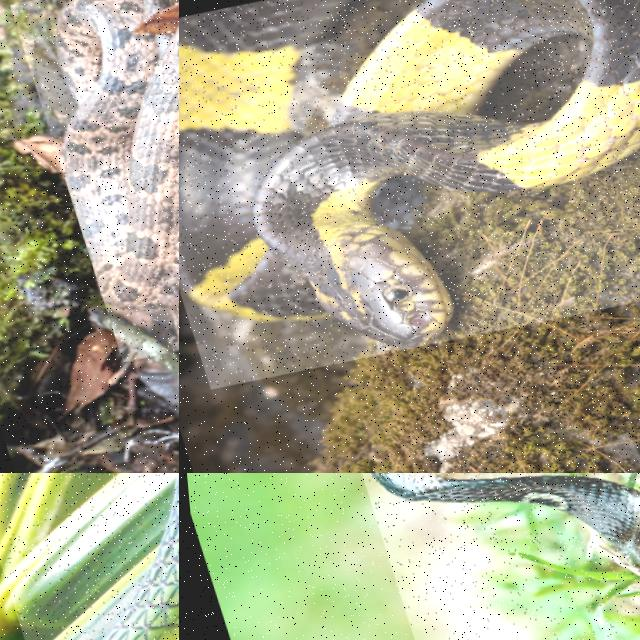Bungarus fasciatus: (179, 0, 639, 347)
Chrysopelea ornata: (104, 473, 178, 639)
Naja kaouthia: (372, 473, 639, 565)
Ovophis monticola: (65, 0, 178, 308)
